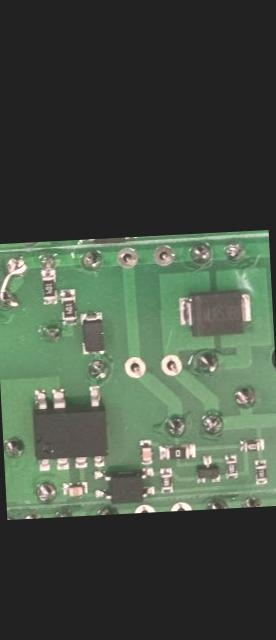chip-capacitor: (62, 480, 90, 497), (138, 436, 154, 465)
chip-resistor: (156, 441, 196, 461), (38, 266, 57, 306), (58, 287, 77, 325), (236, 436, 265, 452), (223, 452, 238, 480), (252, 457, 266, 486), (159, 466, 173, 494)
diode: (175, 289, 253, 338), (78, 309, 105, 356)
ic: (29, 382, 107, 472), (91, 466, 157, 505)
transistor: (193, 453, 221, 484)
